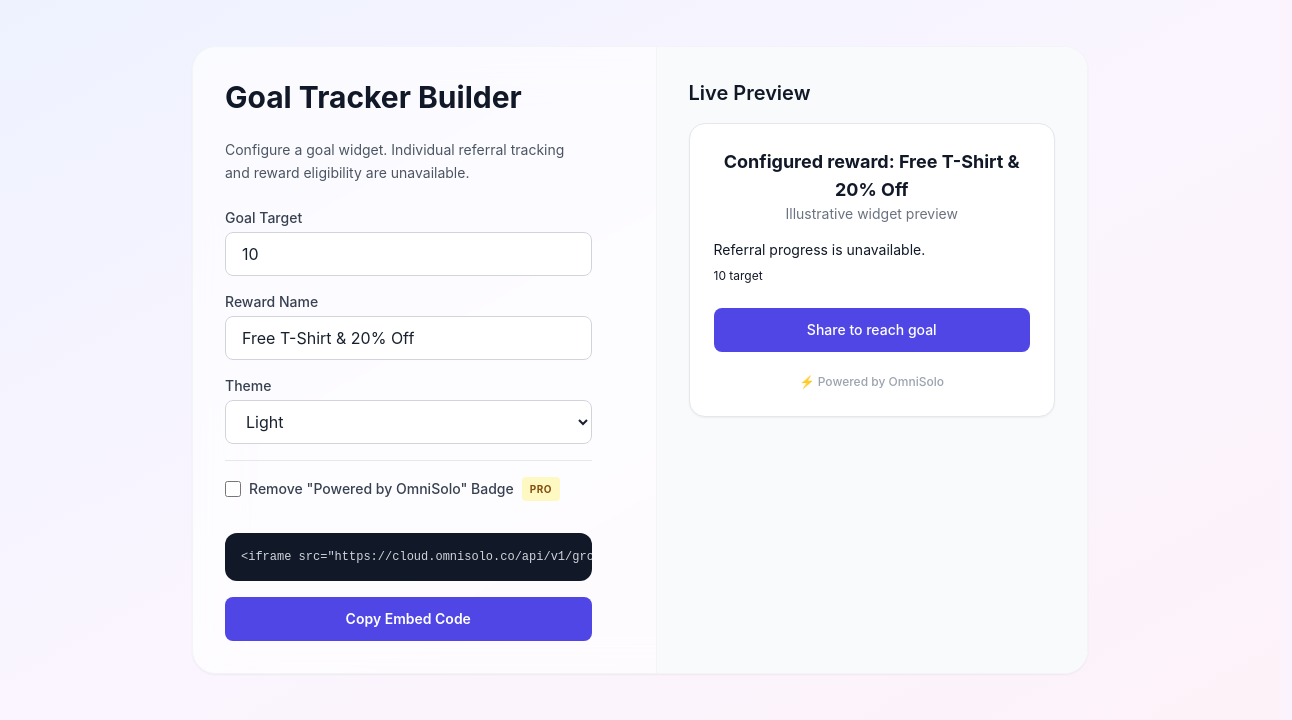
Test case: ViralGoalTrackerPage › updates reward name input
Replace the text in the field showing "Free T-Shirt & 20% Off" with "Exclusive Sticker" at coordinates (408, 338), box [225,316,592,360]
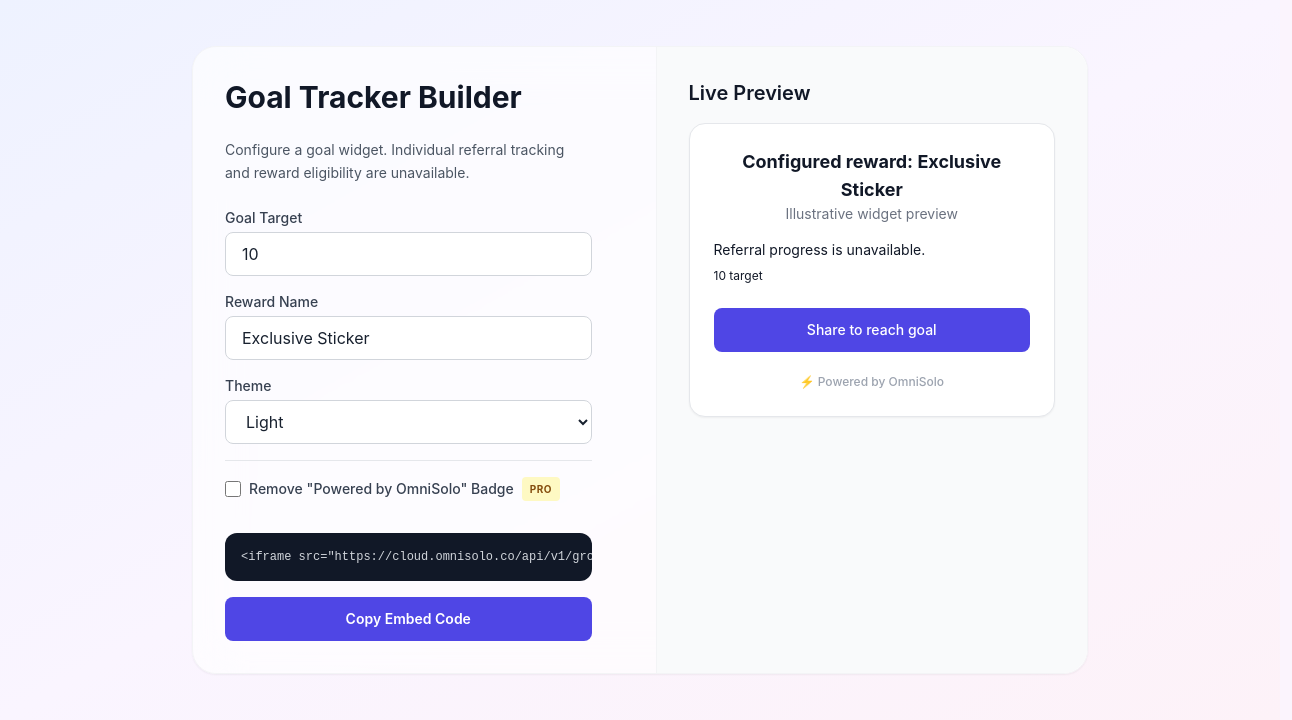
Expected: the heading "Configured reward: Exclusive Sticker" is shown, [742,151,1001,200]
